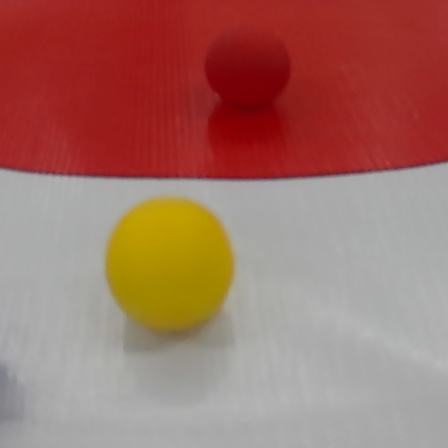red: (203, 19, 302, 110)
red_base: (0, 0, 448, 185)
yellow: (102, 195, 237, 336)
